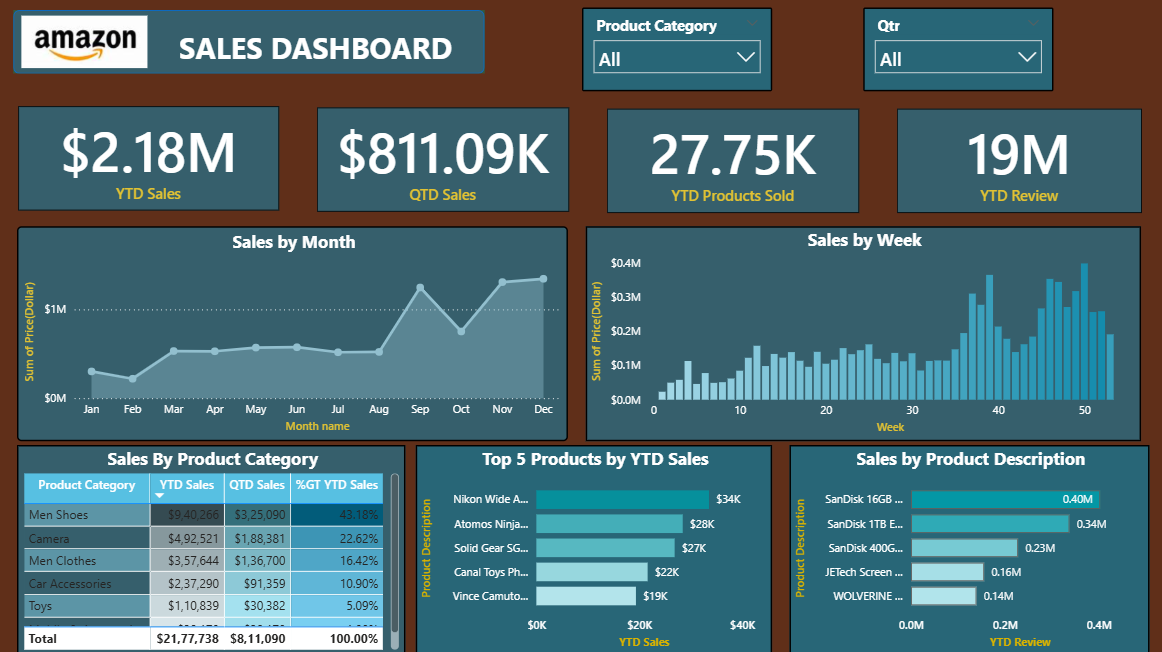

Layout of this report page (visuals, bound fields, positions):
{"tool":"powerbi","page":{"name":"Page 1","canvas":[1280,720],"ordinal":0},"visuals":[{"type":"shape","box":[17.8,11,517.3,70],"z":0},{"type":"card","fields":{"Values":["Amazon_Data.YTD Sales"]},"box":[23.3,116.6,286.5,114.7],"z":0,"group":"g1"},{"type":"textbox","box":[194.9,26.1,311.5,54.9],"z":1000},{"type":"card","fields":{"Values":["Amazon_Data.QTD Sales"]},"box":[350.8,117.9,276.8,114.7],"z":1000,"group":"g1"},{"type":"group","id":"g1","title":"Group 1","box":[23.3,116.6,1233.6,115.3],"z":2000},{"type":"card","fields":{"Values":["Amazon_Data.YTD Review"]},"box":[988.4,119.9,268.5,114.7],"z":2000,"group":"g1"},{"type":"card","fields":{"Values":["Amazon_Data.YTD Products Sold"]},"box":[669.6,118.9,276.8,114.7],"z":3000,"group":"g1"},{"type":"areaChart","title":"Sales by Month","fields":{"Category":["Date Table.Month name"],"Y":["Sum(Amazon_Data.Price(Dollar))"]},"box":[22,248.4,605.1,236],"z":3000},{"type":"columnChart","title":"Sales by Week","fields":{"Category":["Date Table.Week"],"Y":["Sum(Amazon_Data.Price(Dollar))"]},"box":[646.3,248.4,609.3,236],"z":4000},{"type":"tableEx","title":"Sales By Product Category","fields":{"Values":["Amazon_Data.Product Category","Amazon_Data.YTD Sales1","Amazon_Data.QTD Sales","Amazon_Data.YTD Sales"]},"box":[22,488.5,426.8,231.9],"z":5000},{"type":"clusteredBarChart","title":"Top 5 Products by YTD Sales","fields":{"Category":["Amazon_Data.Product Description"],"Y":["Amazon_Data.YTD Sales"]},"box":[459.7,488.5,391.1,231.9],"z":6000},{"type":"clusteredBarChart","title":" Sales by Product Description","fields":{"Y":["Amazon_Data.YTD Review"],"Category":["Amazon_Data.Product Description"]},"box":[870,488.5,395.2,231.9],"z":7000},{"type":"slicer","fields":{"Values":["Amazon_Data.Product Category"]},"box":[642.2,8.2,208.6,91.9],"z":8000},{"type":"slicer","fields":{"Values":["Date Table.Qtr"]},"box":[950.9,8.2,208.6,91.9],"z":9000},{"type":"image","box":[22,12.3,148.2,67.2],"z":10000}]}

Visuals, with their boxes in screenshot pixels (x1, y1, x2, y2), scaled from the page's 1280x720 canvas onto the 1162x652 screenshot:
shape: BBox(16, 10, 486, 73)
card - Amazon_Data.YTD Sales: BBox(21, 106, 281, 209)
textbox: BBox(177, 24, 460, 73)
card - Amazon_Data.QTD Sales: BBox(318, 107, 570, 211)
"Group 1" group: BBox(21, 106, 1141, 210)
card - Amazon_Data.YTD Review: BBox(897, 109, 1141, 212)
card - Amazon_Data.YTD Products Sold: BBox(608, 108, 859, 212)
"Sales by Month" areaChart: BBox(20, 225, 569, 439)
"Sales by Week" columnChart: BBox(587, 225, 1140, 439)
"Sales By Product Category" tableEx: BBox(20, 442, 407, 651)
"Top 5 Products by YTD Sales" clusteredBarChart: BBox(417, 442, 772, 651)
" Sales by Product Description" clusteredBarChart: BBox(790, 442, 1149, 651)
slicer - Amazon_Data.Product Category: BBox(583, 7, 772, 91)
slicer - Date Table.Qtr: BBox(863, 7, 1053, 91)
image: BBox(20, 11, 155, 72)
